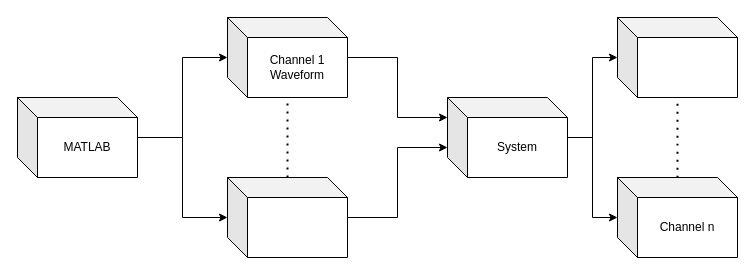
This 755x275 diagram has some shape labels left out. The centre of each missing label's shape, as x and y in pixels:
"Channel 1" belongs at point (677, 57).
"Channel n Waveform" belongs at point (287, 217).
